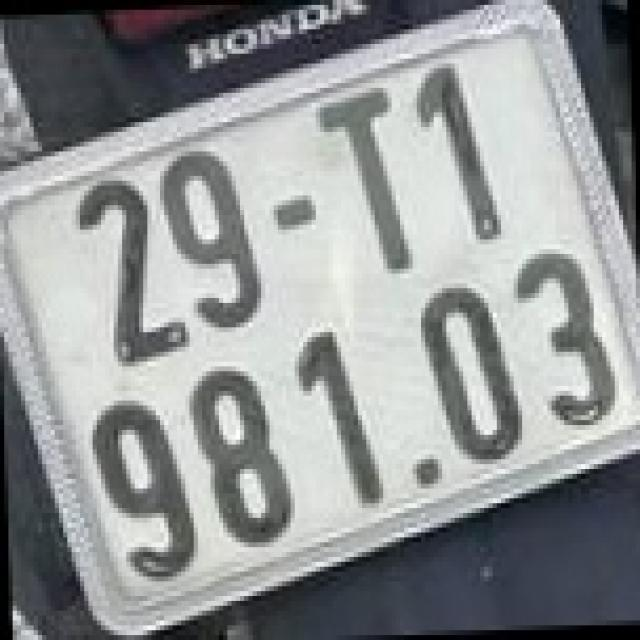0: (426, 274, 526, 454)
1: (414, 58, 520, 250), (294, 312, 392, 514)
2: (72, 166, 194, 367)
3: (514, 245, 624, 430)
8: (193, 357, 294, 547)
9: (84, 390, 198, 582), (164, 146, 270, 338)
T: (311, 83, 417, 274)
